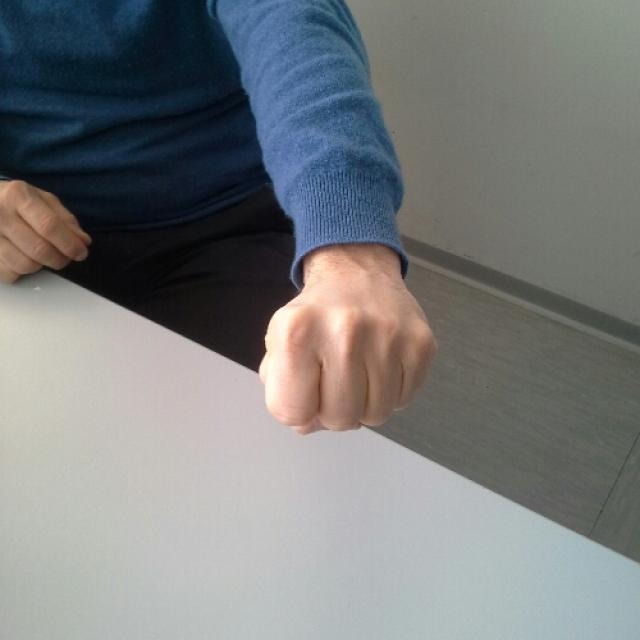rock: (261, 300, 438, 434)
